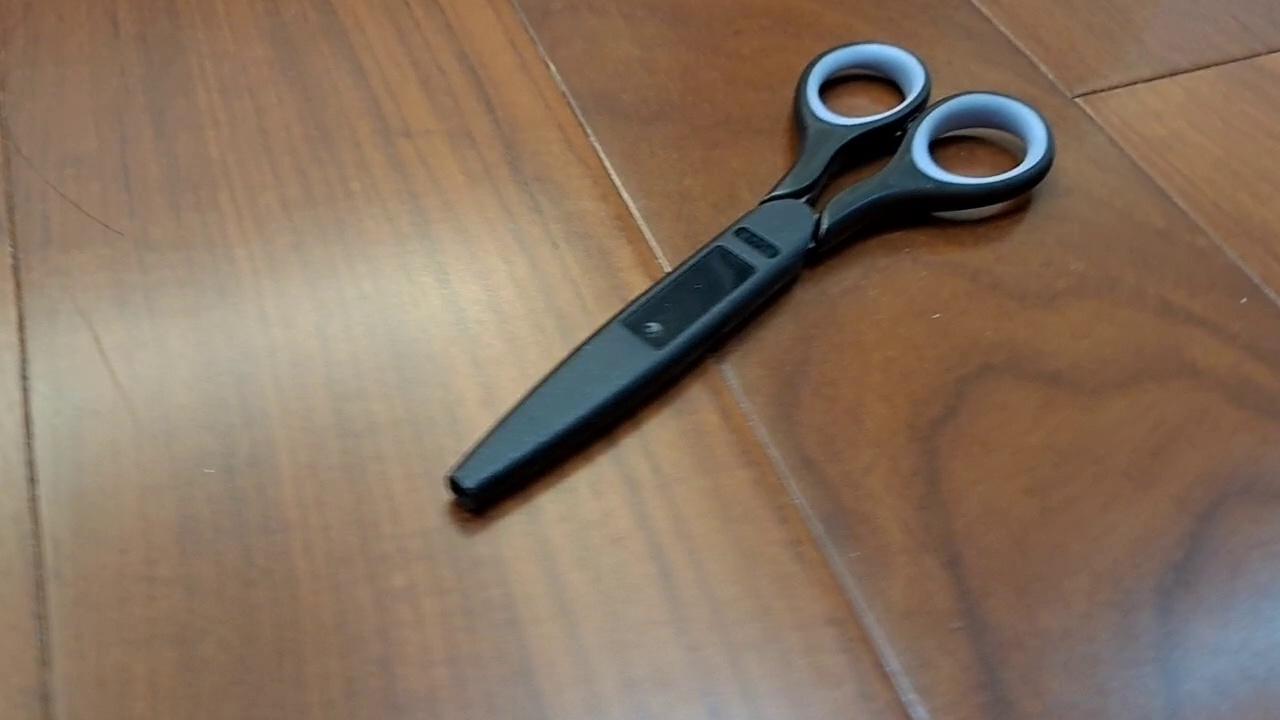scissors: (442, 40, 1056, 519)
